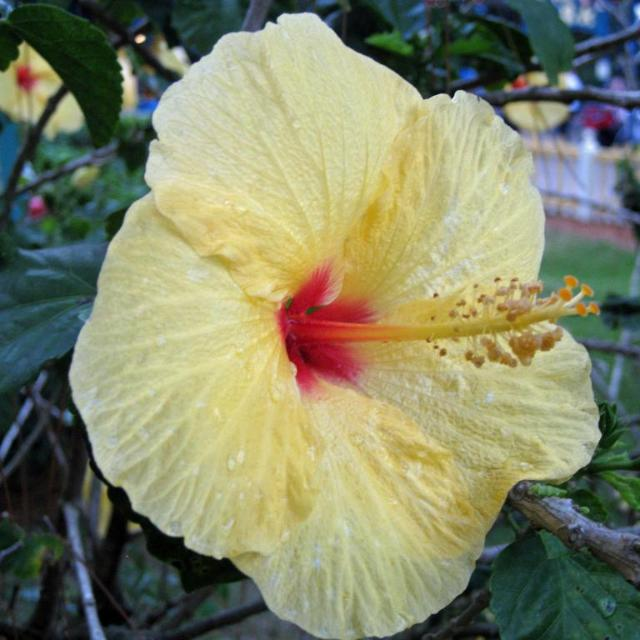Flower: (62, 6, 598, 630), (499, 69, 577, 201), (0, 38, 84, 142), (144, 28, 188, 78), (118, 43, 136, 117)
